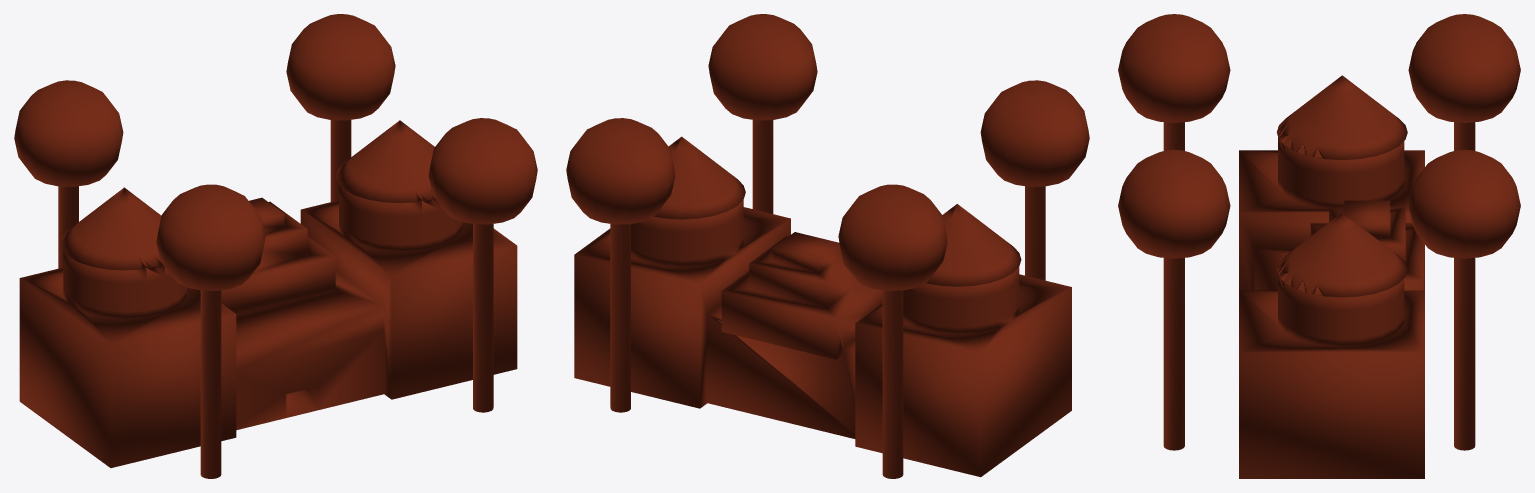
Rendered from Lollipop Castle.obj.
3 renders of one model, left to right at view 1: azimuth 30°, elevation 25°; view 2: azimuth 150°, elevation 25°; view 3: azimuth 270°, elevation 25°, orthographic. The views are drawn at different scales.
Parts seen in each view (by area): view 1: Lollipop_Castle; view 2: Lollipop_Castle; view 3: Lollipop_Castle.
Boxes of the visible parts, left/top/right/bottom form: Lollipop_Castle: left=14, top=14, right=537, bottom=478; Lollipop_Castle: left=566, top=14, right=1089, bottom=478; Lollipop_Castle: left=1118, top=14, right=1520, bottom=478.
Size of the model in its own units: 107 by 72.02 by 89.73.
